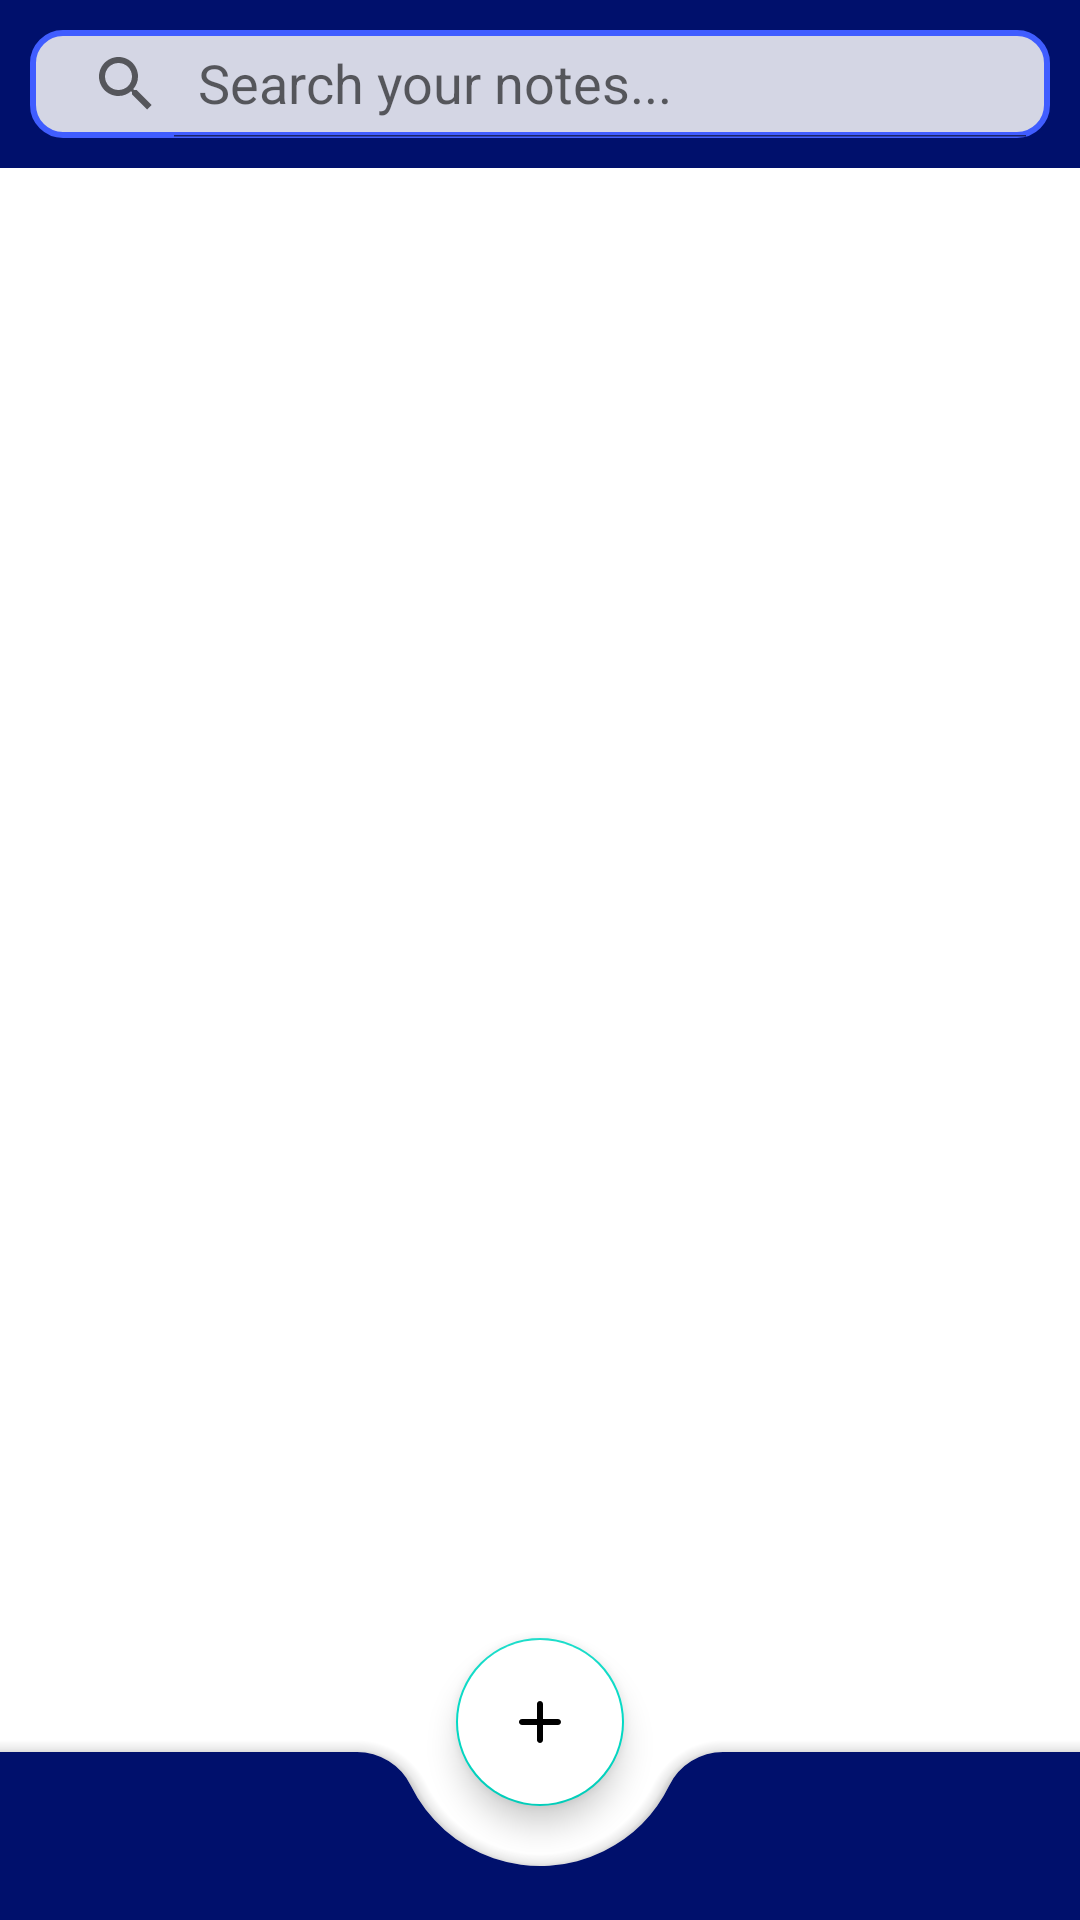

Point at icon controls on the screen. Image size 1080*1920, points as (x=x, y=y).
add: (x=540, y=1744)
